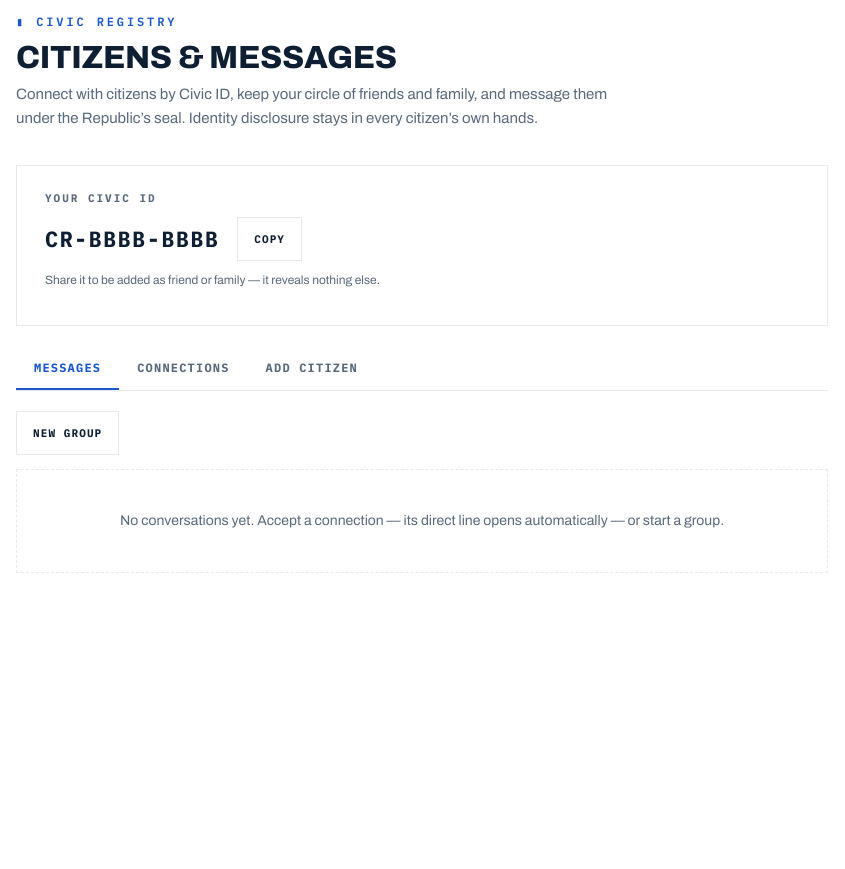
CommunityApp — add citizen › surfaces the server's 404 verdict in the persistent status region
Check: the text "CR-BBBB-BBBB" is shown, box 45,222 -> 219,256
Click the tab with test id "community-tab-add": x=312, y=368 248,346 -> 376,390
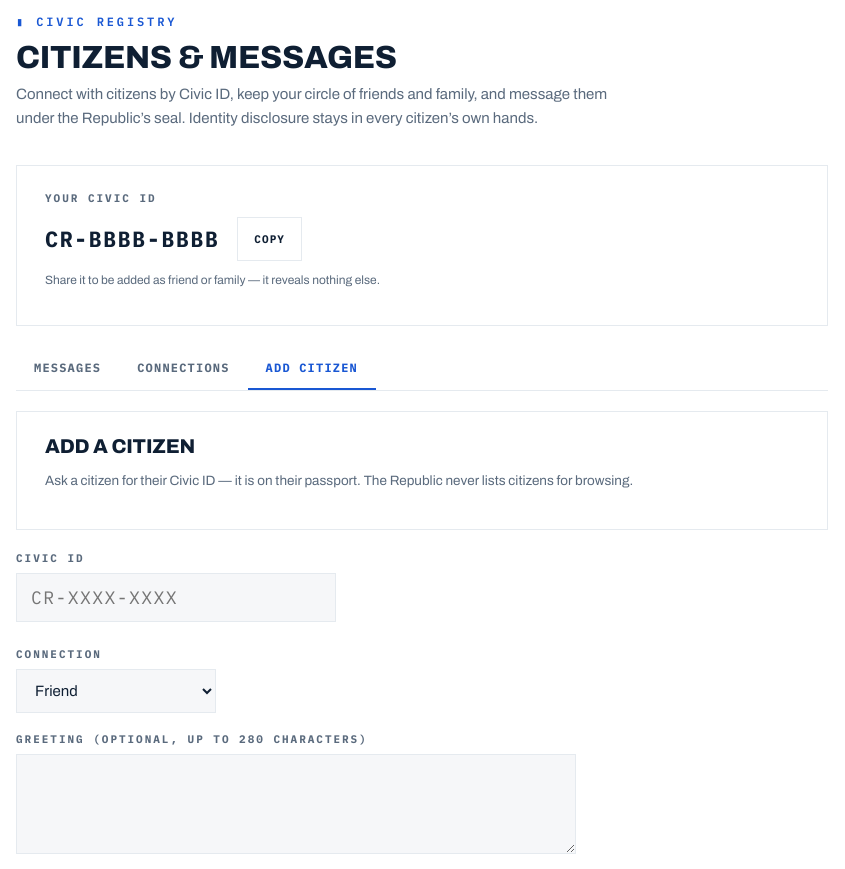
In the field with test id "civic-id-input": x=176, y=597 16,573 -> 336,622, type "CR-2345-BCDF"
(page scrolled)
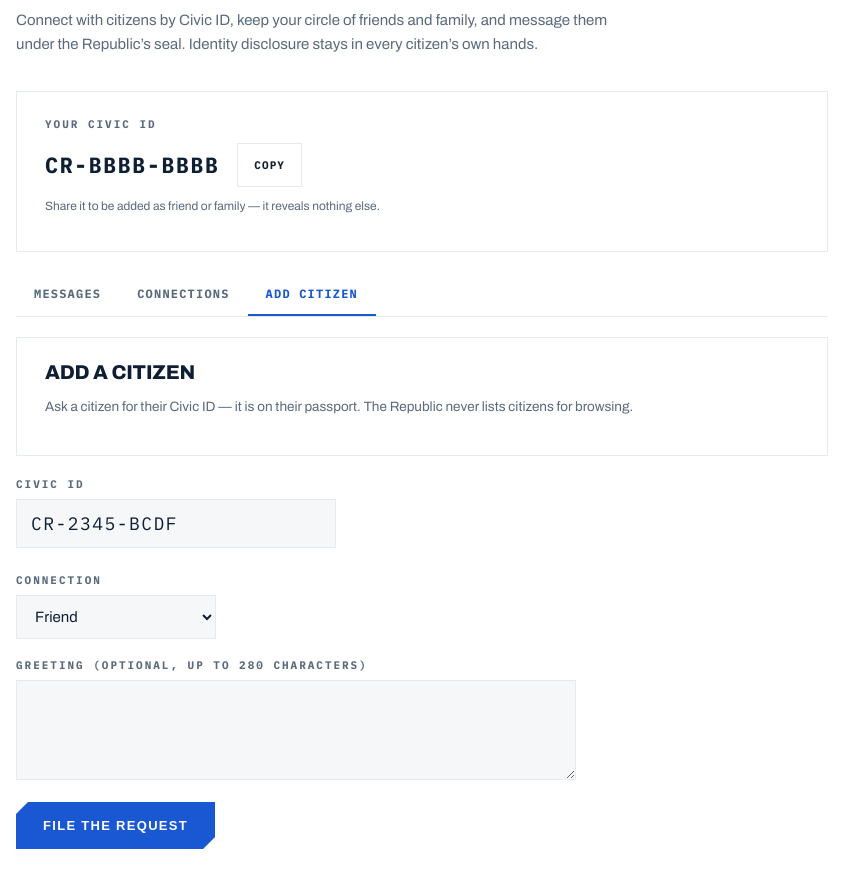
Click the button with test id "add-citizen-submit": x=116, y=826 16,802 -> 215,849
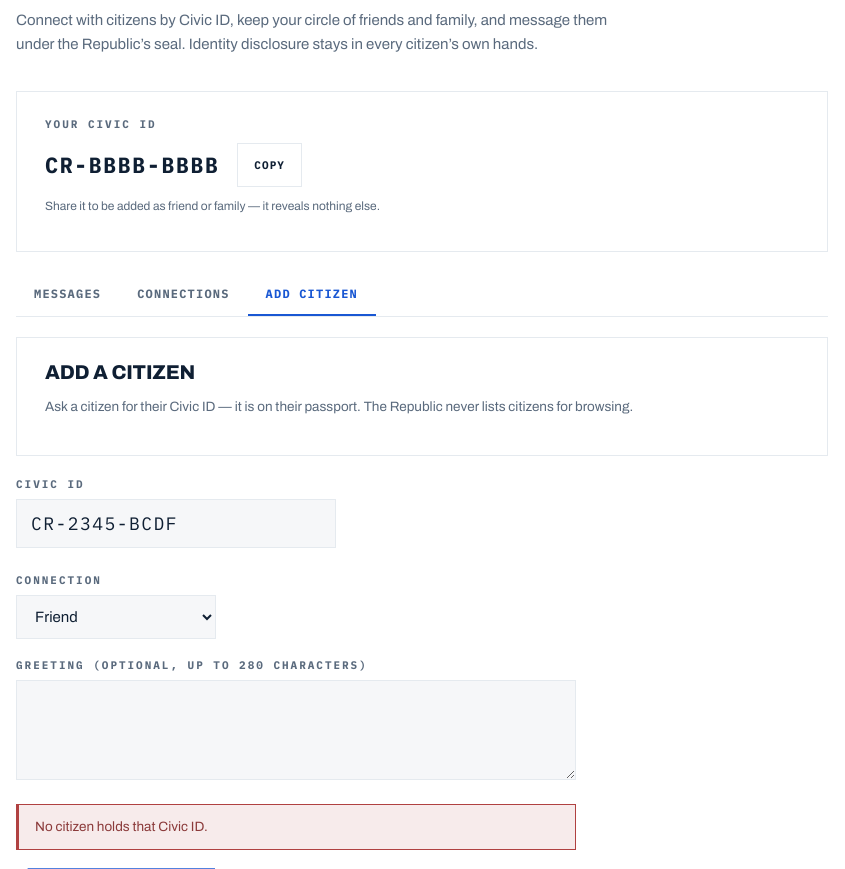
Check: the text "No citizen holds that Civic ID." is shown, box 16,804 -> 576,850
